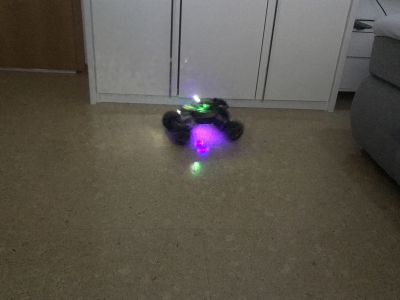remote control car: (159, 92, 244, 148)
